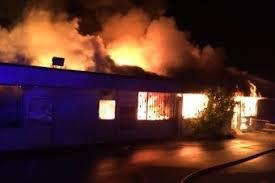fire: (98, 96, 116, 120)
